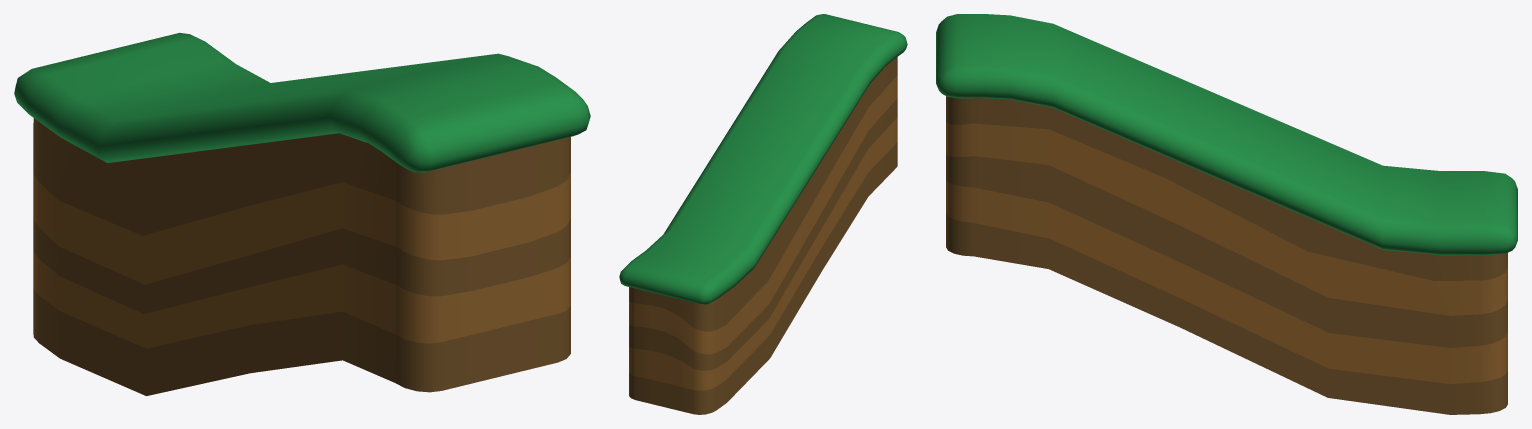
Rendered from Plateforme_Pencher 1.fbx.
3 views of the same model, side by side, from view 1: azimuth 30°, elevation 25°; view 2: azimuth 150°, elevation 25°; view 3: azimuth 270°, elevation 25° (orthographic). The views are drawn at different scales.
Parts seen in each view (by area): view 1: Cube.005; view 2: Cube.005; view 3: Cube.005.
Part boxes in pixels (box(x1,y1,x2,y2)): Cube.005: box(14, 32, 590, 395); Cube.005: box(619, 14, 907, 414); Cube.005: box(936, 14, 1517, 414).
Size of the model in its own units: 499 by 1231 by 1878.
